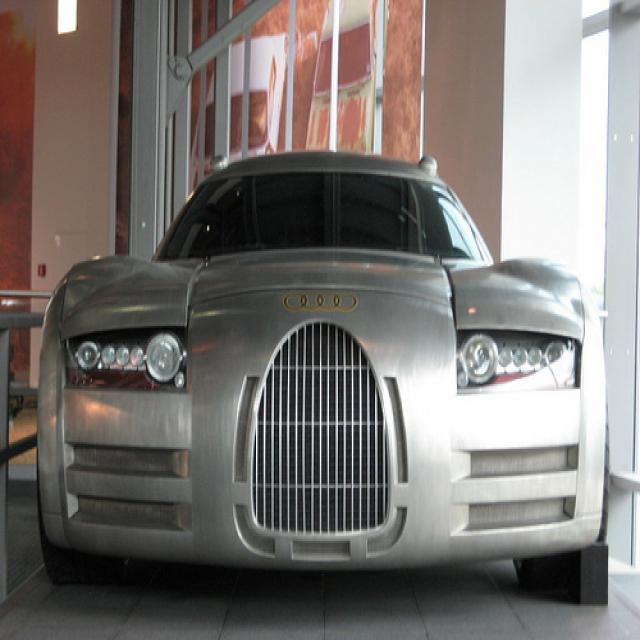Car: (24, 132, 613, 618)
